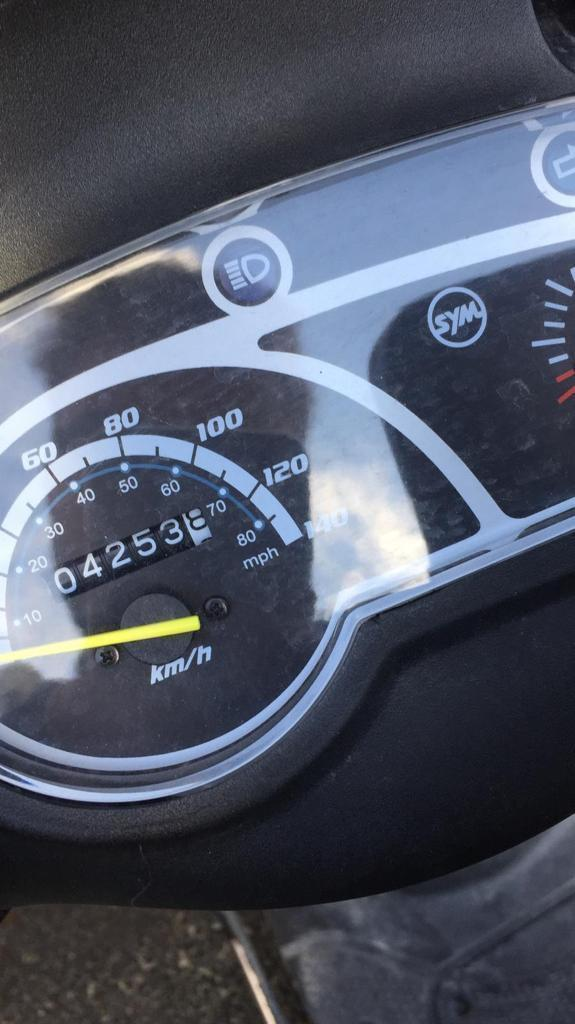0: (53, 566, 77, 594), (53, 522, 64, 535), (37, 555, 47, 569)
2: (104, 540, 131, 569)
3: (159, 518, 184, 545), (43, 526, 54, 539)
4: (82, 551, 102, 579)
5: (131, 527, 156, 557)
7: (206, 502, 215, 516)
8: (185, 506, 208, 530)
odometer: (39, 505, 214, 605)
